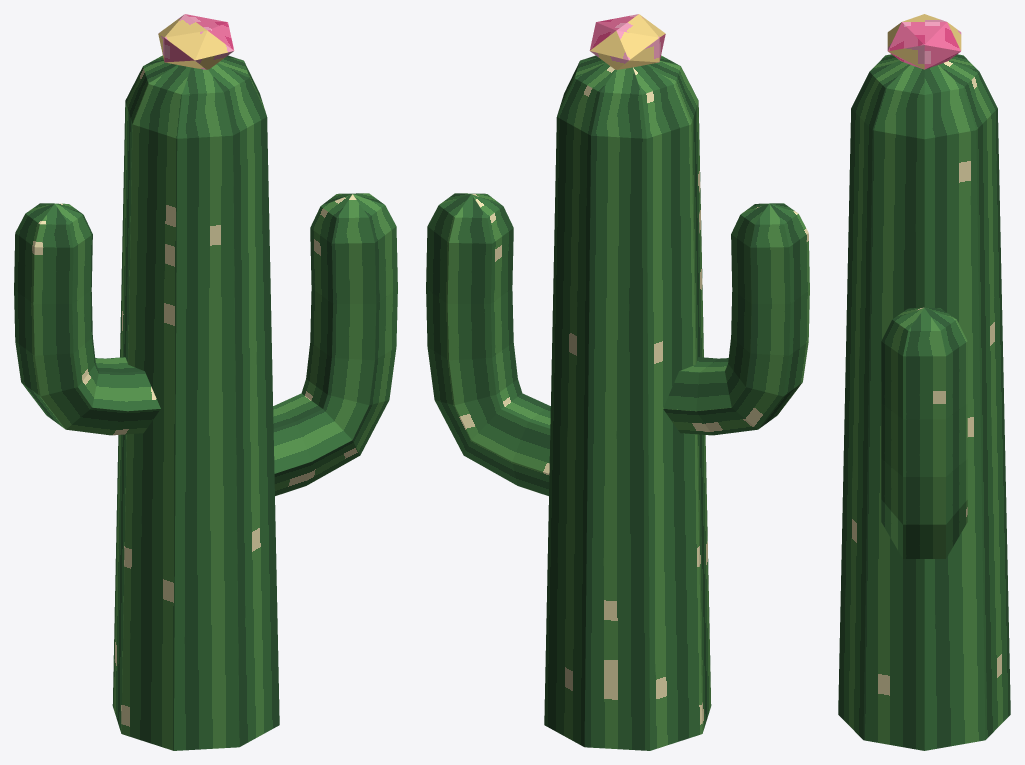
Rendered from cactus.glb.
3 renders of one model, left to right at view 1: azimuth 30°, elevation 25°; view 2: azimuth 150°, elevation 25°; view 3: azimuth 270°, elevation 25°, orthographic.
Visible parts, largest first — view 1: cactus; view 2: cactus; view 3: cactus.
Part boxes in pixels (x1,y1,x2,y2): cactus: (14,14,397,750); cactus: (426,14,809,750); cactus: (838,14,1010,750).
Bounding box in the file's own units: 0.9873 × 1.8 × 0.4065.
Materials: 1 (1 with a texture image).
